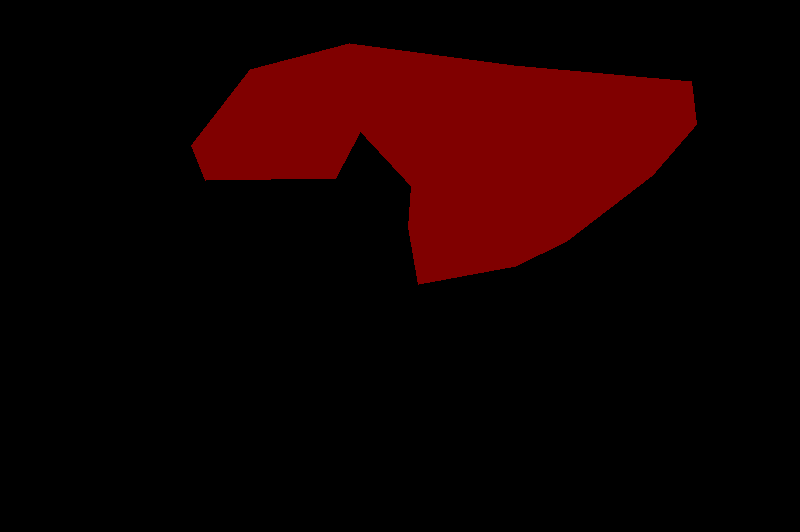fire: (191, 43, 696, 284)
